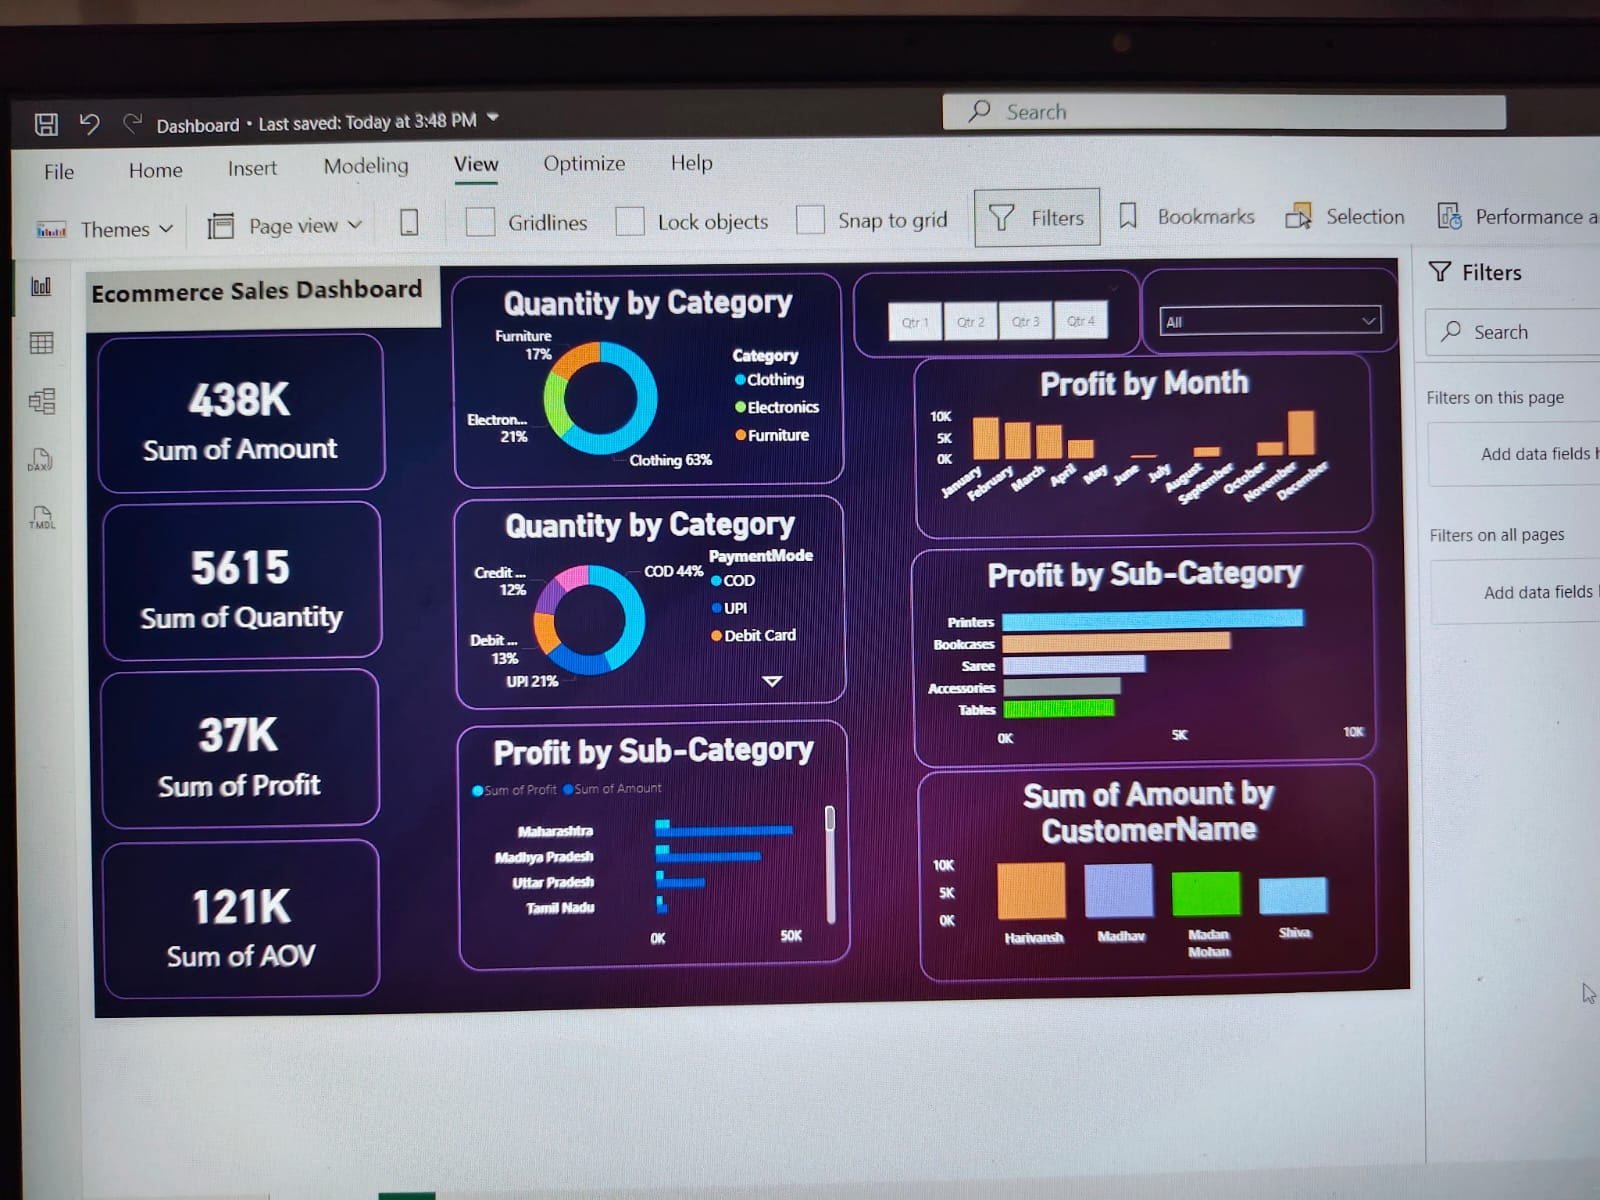

This screenshot's page, from the dashboard's own definition file:
{"tool":"powerbi","page":{"name":"Page 1","canvas":[1280,720],"ordinal":0},"visuals":[{"type":"columnChart","title":"Profit by Month","fields":{"Y":["Sum(Details.Profit)"],"Category":["Orders.Order Date.Variation.Date Hierarchy.Month"]},"box":[798.6,93.3,450.1,177],"z":0},{"type":"clusteredBarChart","title":" Profit by Sub-Category","fields":{"Category":["Details.Sub-Category"],"Y":["Sum(Details.Profit)"]},"box":[793.1,279.9,455.6,212.7],"z":1000},{"type":"donutChart","title":" Quantity by Category","fields":{"Category":["Details.Category"],"Y":["Sum(Details.Quantity)"]},"box":[354,9.6,377.4,205.8],"z":2000},{"type":"donutChart","title":" Quantity by Category","fields":{"Y":["Sum(Details.Quantity)"],"Category":["Details.PaymentMode"]},"box":[352.7,226.4,377.4,203.1],"z":3000},{"type":"card","fields":{"Values":["Sum(Details.Amount)"]},"box":[11,64.5,277.2,150.9],"z":4000},{"type":"card","fields":{"Values":["Sum(Details.Quantity)"]},"box":[15.1,226.4,267.6,150.9],"z":5000},{"type":"card","fields":{"Values":["Sum(Details.Profit)"]},"box":[11,387,267.6,150.9],"z":6000},{"type":"card","fields":{"Values":["Sum(Details.AOV)"]},"box":[9.6,551.6,267.6,150.9],"z":7000},{"type":"clusteredBarChart","title":" Profit by Sub-Category","fields":{"Category":["Orders.State","Details.Sub-Category"],"Y":["Sum(Details.Profit)","Sum(Details.Amount)"]},"box":[352.7,444.6,377.4,236],"z":8000},{"type":"columnChart","fields":{"Category":["Orders.CustomerName"],"Y":["Sum(Details.Amount)"]},"box":[795.9,496.7,450.1,205.8],"z":9000},{"type":"textbox","box":[0,0,343.1,59],"z":10000},{"type":"slicer","fields":{"Values":["Orders.Order Date.Variation.Date Hierarchy.Quarter"]},"box":[742.4,9.6,281.3,83.7],"z":11000},{"type":"slicer","fields":{"Values":["Orders.State"]},"box":[1023.7,9.6,256.6,83.7],"z":12000}]}

Visuals, with their boxes on the page's 1280x720 design canvas (x1, y1, x2, y2). These are canvas units, not pixel positions in the 1600x1200 screenshot, which may show the page scaled, cropped or inside an application window:
"Profit by Month" columnChart: 799,93,1249,270
" Profit by Sub-Category" clusteredBarChart: 793,280,1249,493
" Quantity by Category" donutChart: 354,10,731,215
" Quantity by Category" donutChart: 353,226,730,430
card - Sum(Details.Amount): 11,64,288,215
card - Sum(Details.Quantity): 15,226,283,377
card - Sum(Details.Profit): 11,387,279,538
card - Sum(Details.AOV): 10,552,277,702
" Profit by Sub-Category" clusteredBarChart: 353,445,730,681
columnChart - Orders.CustomerName x Sum(Details.Amount): 796,497,1246,702
textbox: 0,0,343,59
slicer - Orders.Order Date.Variation.Date Hierarchy.Quarter: 742,10,1024,93
slicer - Orders.State: 1024,10,1280,93
